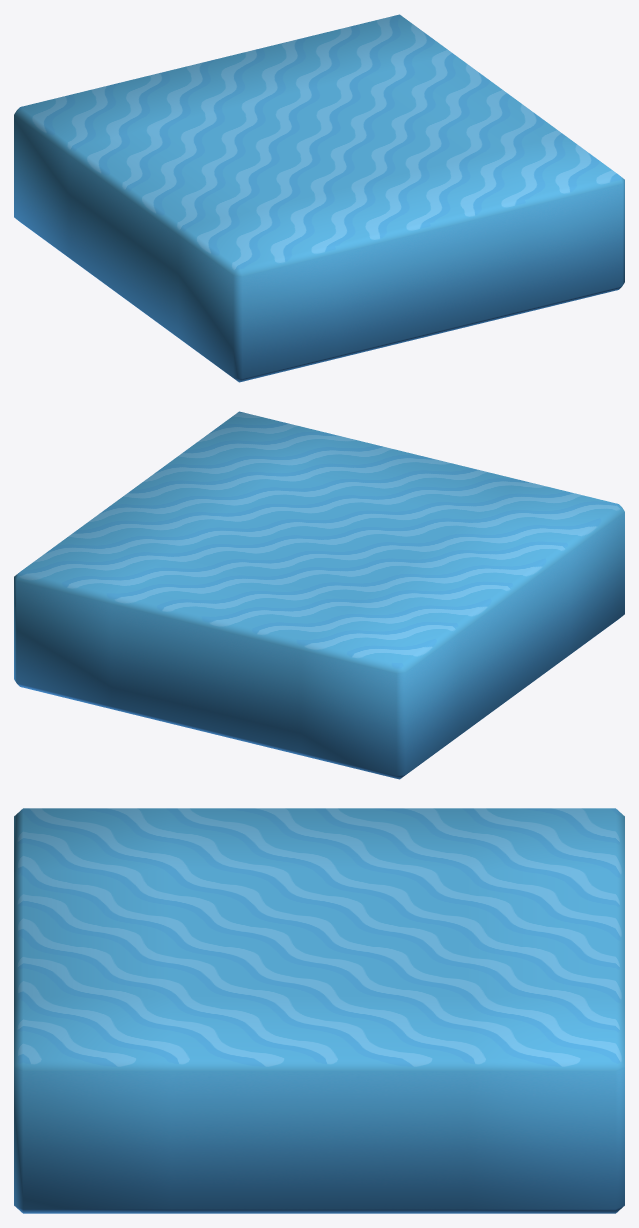
The model's file is water_top_8x8_deep.fbx.
The picture shows the model from 3 angles, top to bottom: view 1: azimuth 30°, elevation 25°; view 2: azimuth 150°, elevation 25°; view 3: azimuth 270°, elevation 25°; orthographic projection. The views are drawn at different scales.
Visible parts, largest first — view 1: water_top_8x8_deep; view 2: water_top_8x8_deep; view 3: water_top_8x8_deep.
Part boxes in pixels (x1,y1,x2,y2): water_top_8x8_deep: [14, 14, 624, 382]; water_top_8x8_deep: [14, 411, 624, 779]; water_top_8x8_deep: [14, 808, 624, 1213].
Bounding box in the file's own units: 825 × 231 × 825.
